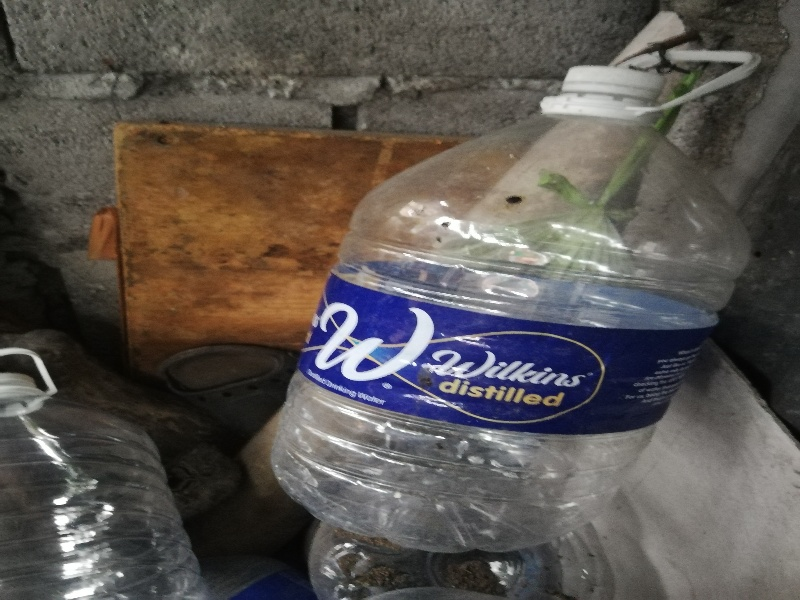PET #1: (265, 35, 754, 551), (1, 362, 208, 600)
